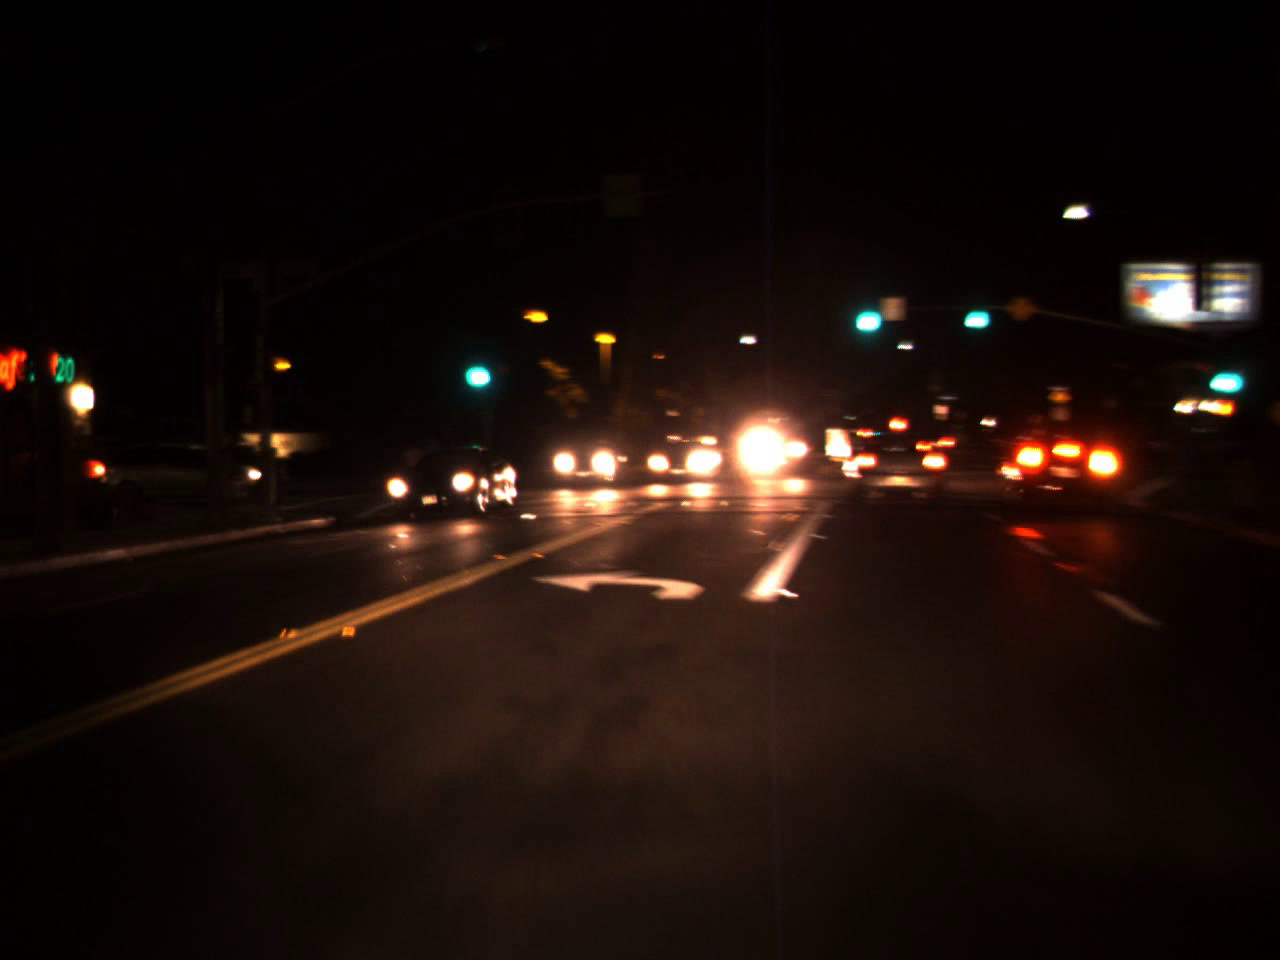go: (454, 337, 497, 397), (843, 283, 888, 340), (1200, 351, 1243, 399), (955, 291, 994, 333)
